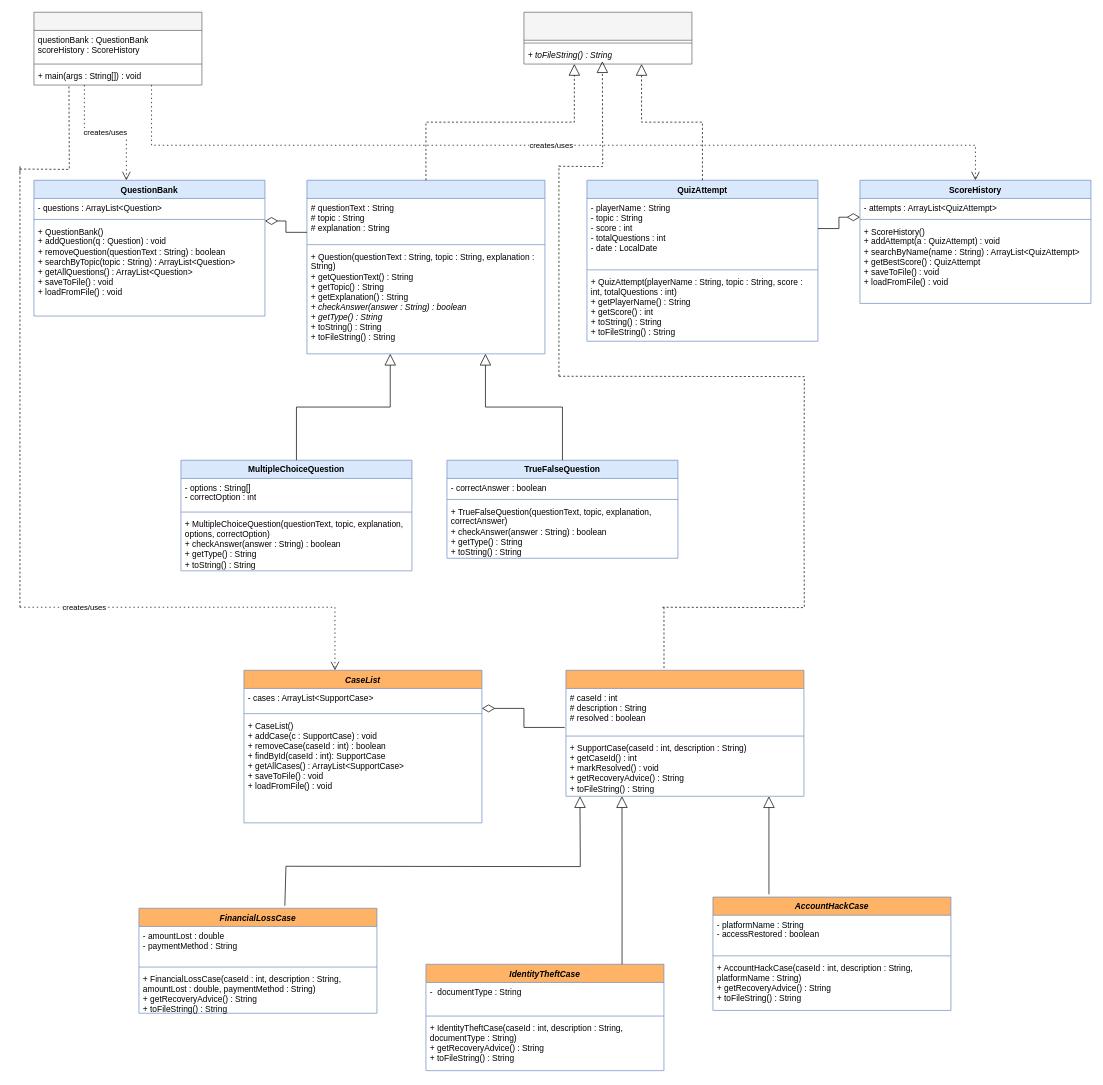
The diagram is 1103 pixels wide and 1085 high, and some of its shapes have lost their labels. The box of each missing label's shape, as (x1, y1, x2, y2) in pixels:
Question (abstract): (306, 180, 545, 354)
ScamShield: (33, 12, 202, 85)
SupportCase (abstract): (565, 670, 804, 796)
«interface» Saveable: (523, 12, 692, 64)
